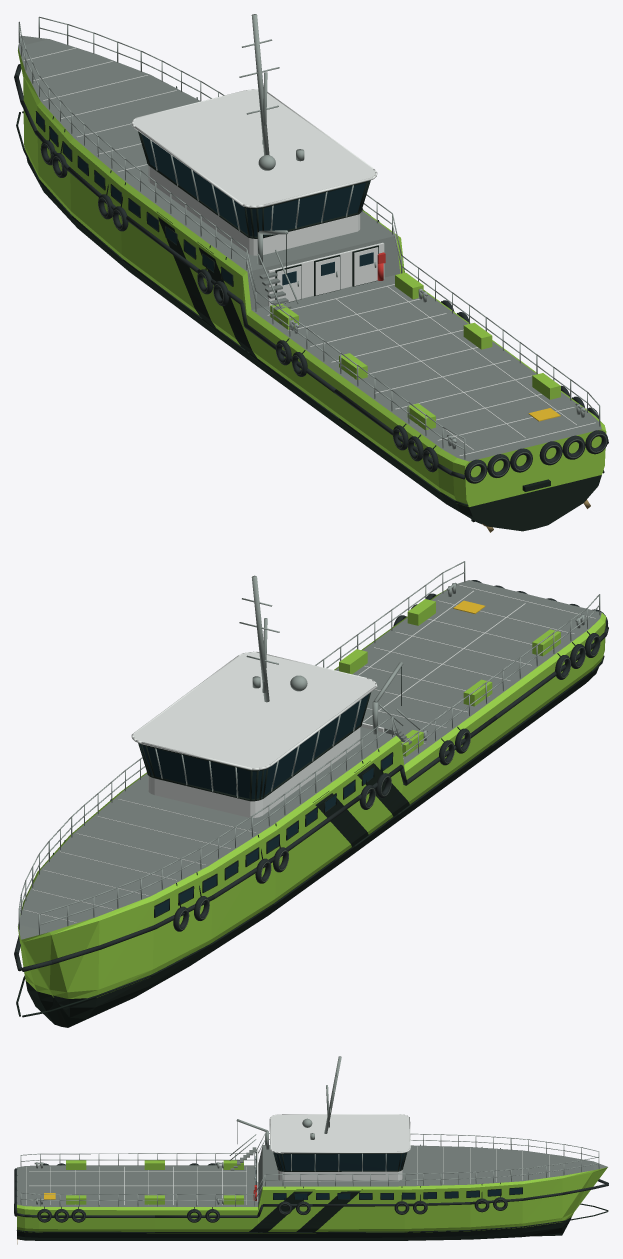
File: ownship-v1.glb
3 renders of one model, top to bottom at view 1: azimuth 30°, elevation 25°; view 2: azimuth 150°, elevation 25°; view 3: azimuth 270°, elevation 25°, orthographic. The views are drawn at different scales.
Visible parts, largest first — view 1: deck, paint, white, black, steel, rubber, glass, rubber_rim; view 2: deck, paint, white, black, steel, glass, rubber, rubber_rim; view 3: paint, deck, black, white, steel, rubber, glass, rubber_rim.
Boxes of the visible parts, bbox=[...] form: deck: bbox=[18, 35, 601, 461]; paint: bbox=[18, 47, 606, 506]; white: bbox=[23, 48, 595, 456]; black: bbox=[16, 86, 604, 531]; steel: bbox=[18, 14, 600, 459]; rubber: bbox=[14, 64, 608, 483]; glass: bbox=[36, 113, 373, 285]; rubber_rim: bbox=[41, 143, 606, 482]; deck: bbox=[18, 580, 601, 939]; paint: bbox=[18, 589, 606, 998]; white: bbox=[23, 585, 595, 922]; black: bbox=[16, 594, 604, 1027]; steel: bbox=[18, 561, 600, 934]; glass: bbox=[140, 693, 392, 916]; rubber: bbox=[14, 580, 608, 971]; rubber_rim: bbox=[178, 636, 600, 929]; paint: bbox=[17, 1160, 607, 1233]; deck: bbox=[17, 1145, 607, 1206]; black: bbox=[14, 1121, 608, 1240]; white: bbox=[26, 1114, 549, 1205]; steel: bbox=[20, 1056, 599, 1206]; rubber: bbox=[14, 1163, 608, 1222]; glass: bbox=[255, 1152, 522, 1199]; rubber_rim: bbox=[38, 1199, 506, 1221].
Size of the model in its own units: 8.52 by 14.9 by 45.29.
